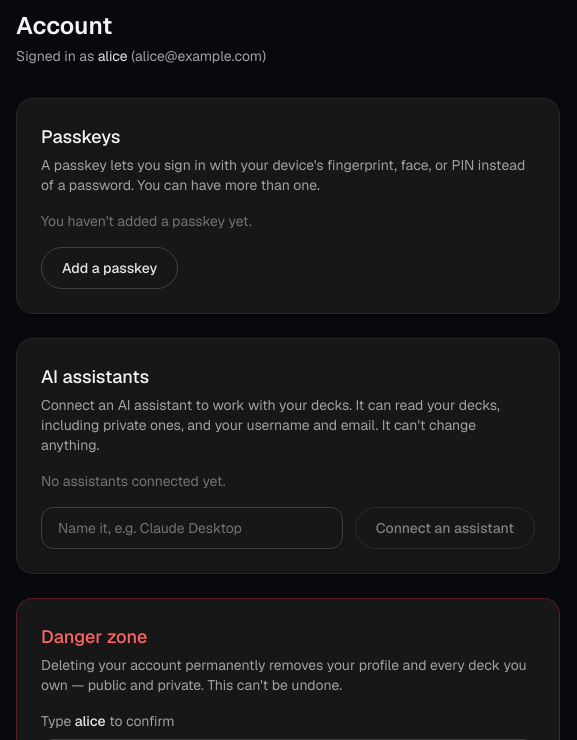
account page: adding a passkey › shows the server's message when verification is rejected
Expected: the text "You haven't added a passkey yet." is shown, [41, 212, 252, 230]
Click the button "Add a passkey" at (110, 268), box [41, 247, 178, 289]
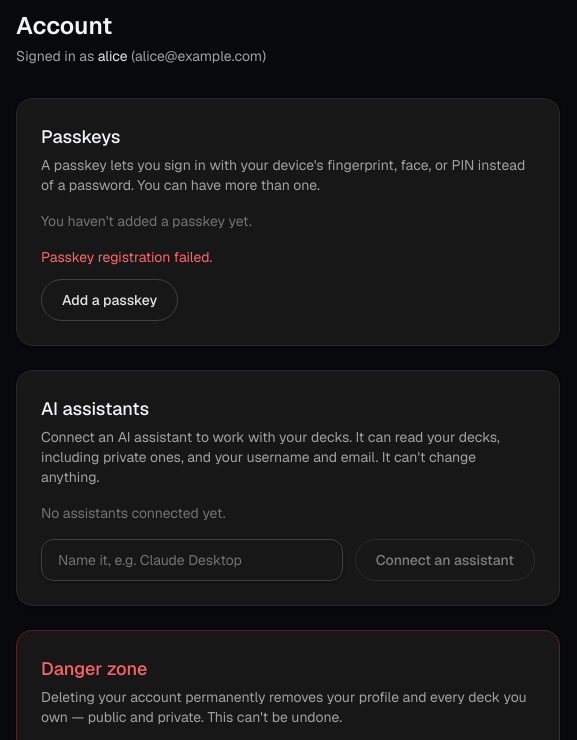
Expected: the text "Passkey registration failed." is shown, [41, 248, 212, 266]
